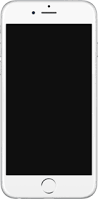iphone: (1, 1, 96, 199)
iphone6: (1, 1, 96, 199)
